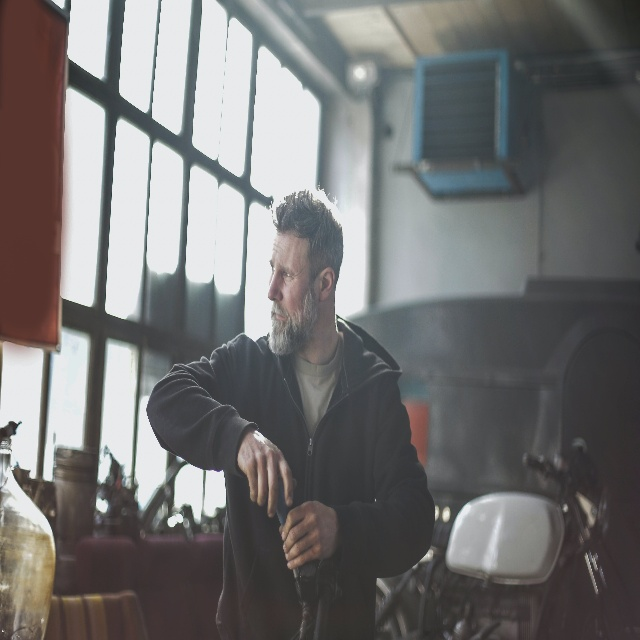Sin_guantes: (239, 428, 298, 517), (279, 498, 338, 572)
